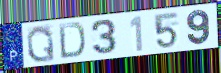1: (129, 14, 143, 52)
3: (89, 18, 118, 56)
5: (153, 11, 181, 50)
9: (185, 8, 212, 47)
D: (57, 22, 87, 61)
Q: (25, 24, 57, 64)
